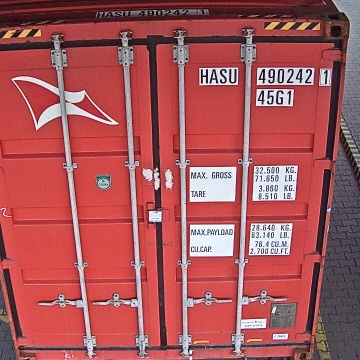serial_id: (199, 68, 330, 84)
